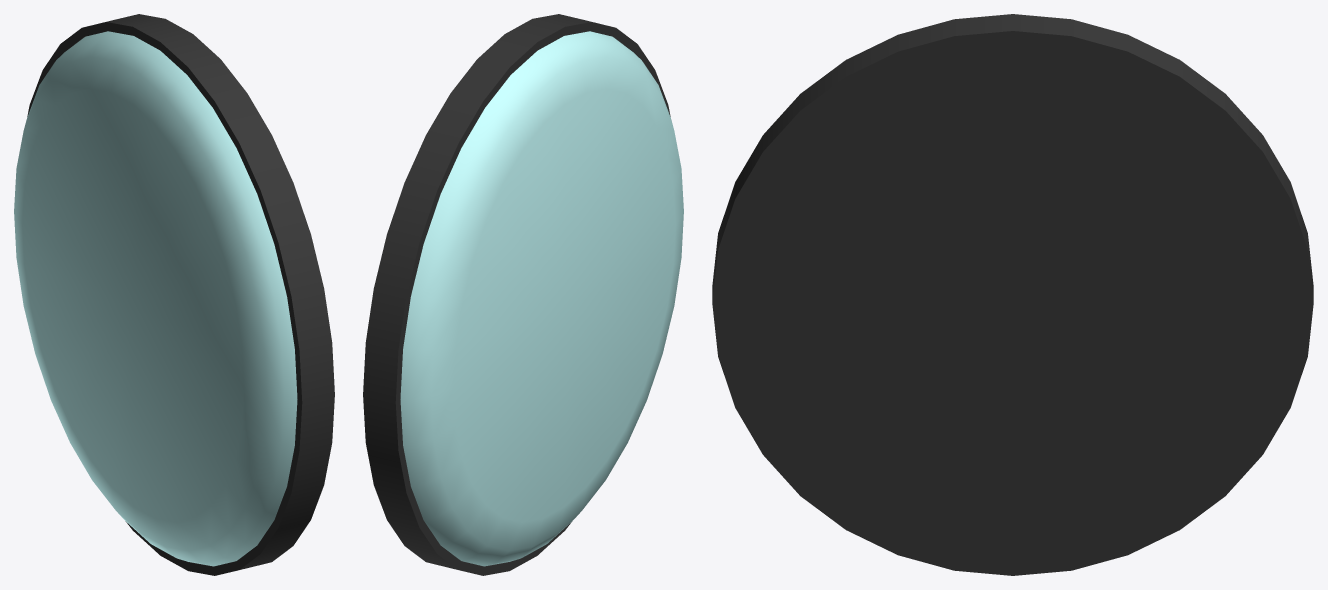
Rendered from SM_Clock_01.fbx.
3 views of the same model, side by side, from view 1: azimuth 30°, elevation 25°; view 2: azimuth 150°, elevation 25°; view 3: azimuth 270°, elevation 25° (orthographic). The views are drawn at different scales.
Parts seen in each view (by area): view 1: SM_Clock_01_LOD0; view 2: SM_Clock_01_LOD0; view 3: SM_Clock_01_LOD0.
Part boxes in pixels (box(x1,y1,x2,y2)): SM_Clock_01_LOD0: box(14, 14, 334, 575); SM_Clock_01_LOD0: box(363, 14, 683, 575); SM_Clock_01_LOD0: box(712, 14, 1313, 575).
Bounding box in the file's own units: 3.82 × 30 × 30.
